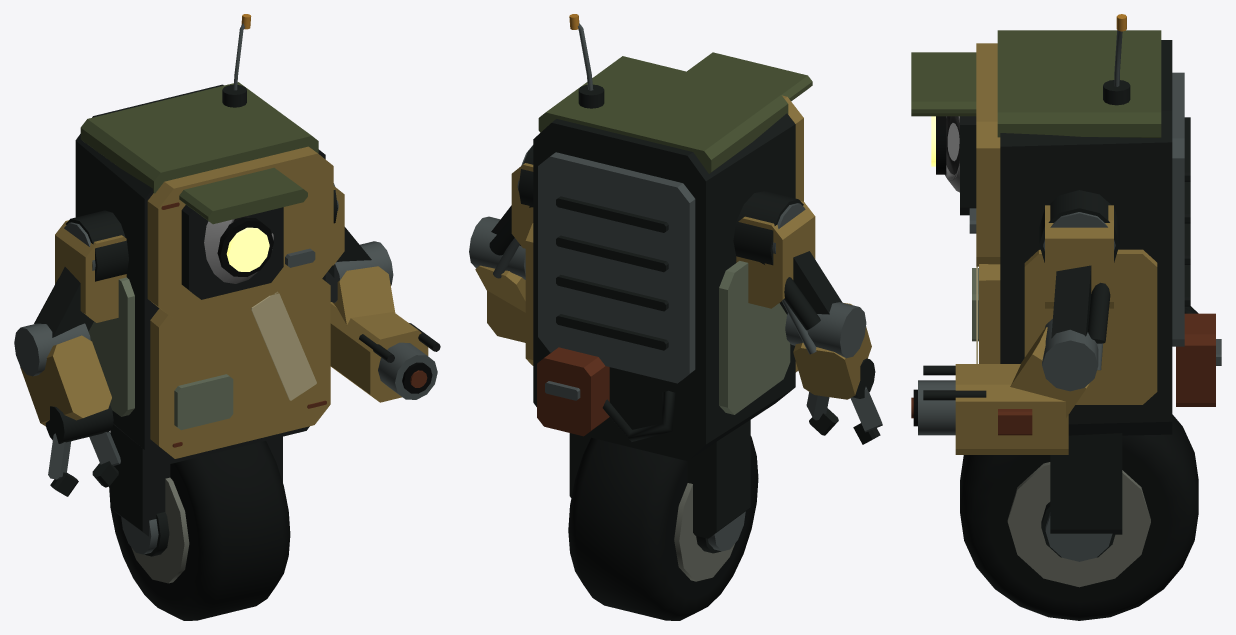
Rendered from KLONKBOT.lo.glb.
3 renders of one model, left to right at view 1: azimuth 30°, elevation 25°; view 2: azimuth 150°, elevation 25°; view 3: azimuth 270°, elevation 25°, orthographic. The views are drawn at different scales.
Visible parts, largest first — view 1: body_geometry, wheel_geometry, armL_geometry, armR_geometry; view 2: body_geometry, wheel_geometry, armL_geometry, armR_geometry; view 3: body_geometry, wheel_geometry, armR_geometry.
Boxes of the visible parts, x1,y1,x2,y2 form: body_geometry: (66,14,337,554); wheel_geometry: (109,441,290,620); armL_geometry: (14,220,126,496); armR_geometry: (325,183,440,402); body_geometry: (518,14,812,551); wheel_geometry: (568,436,758,620); armL_geometry: (736,201,882,444); armR_geometry: (469,145,533,342); body_geometry: (911,14,1221,561); wheel_geometry: (960,414,1198,620); armR_geometry: (911,205,1115,454).
Bounding box in the file's own units: 0.8058 × 1.2 × 0.541.
2 materials, 1 textured.
